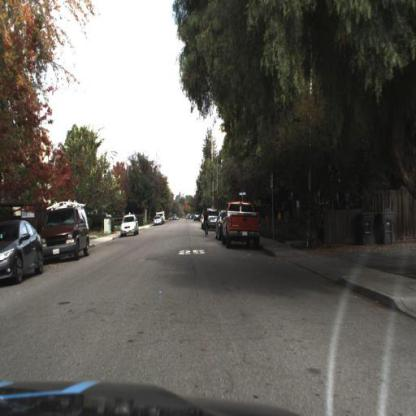biker: (200, 204, 212, 240)
car: (40, 197, 92, 262), (41, 204, 92, 267), (1, 218, 44, 283), (225, 201, 263, 250), (118, 207, 144, 239), (205, 203, 222, 235), (121, 213, 141, 237), (214, 209, 226, 246), (152, 212, 166, 228)
